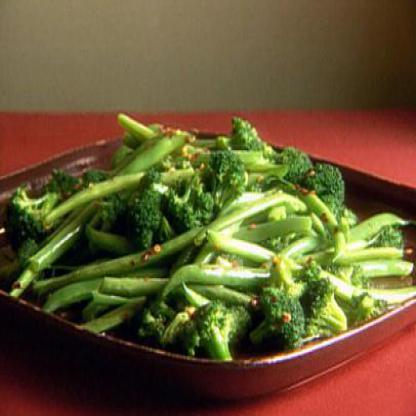broccoli: (0, 113, 415, 368)
